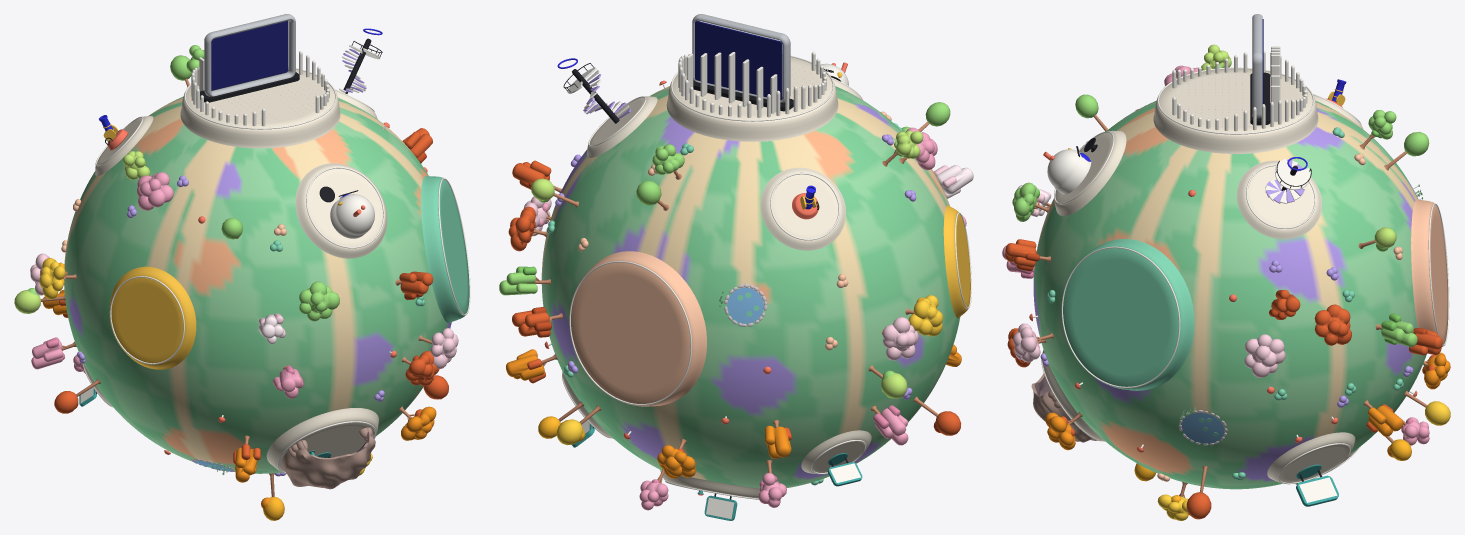
File: planet.glb
3 renders of one model, left to right at view 1: azimuth 30°, elevation 25°; view 2: azimuth 150°, elevation 25°; view 3: azimuth 270°, elevation 25°, orthographic. The views are drawn at different scales.
Parts seen in each view (by area): view 1: PLANET_ground, TERRACE_pin-art, TERRACE_gravity-pong, TERRACE_brand-studio, TERRACE_studio, PIN_backplate, TERRACE_orchestrator, CAVE_shell, PIN_frame, STUDIO_house, PIN_colonnade, TREE_17 (+20 smaller); view 2: PLANET_ground, TERRACE_engraver, TERRACE_pin-art, TERRACE_cannon, PIN_backplate, TERRACE_gravity-pong, PIN_colonnade, TERRACE_monument, TERRACE_genai-after-hours, PIN_frame, TREE_33, TREE_06 (+23 smaller); view 3: PLANET_ground, TERRACE_brand-studio, TERRACE_pin-art, TERRACE_engraver, TERRACE_monument, TERRACE_field, PIN_colonnade, TERRACE_studio, STUDIO_house, TREE_25, TREE_00, PIN_frame (+26 smaller).
Part boxes in pixels (<box>): PLANET_ground: <box>64,96,451,473</box>; TERRACE_pin-art: <box>180,68,340,148</box>; TERRACE_gravity-pong: <box>109,266,196,369</box>; TERRACE_brand-studio: <box>421,176,469,323</box>; TERRACE_studio: <box>295,163,387,258</box>; PIN_backplate: <box>211,21,288,90</box>; TERRACE_orchestrator: <box>266,408,378,472</box>; CAVE_shell: <box>282,427,375,489</box>; PIN_frame: <box>204,14,295,96</box>; STUDIO_house: <box>330,194,374,238</box>; PIN_colonnade: <box>191,51,329,126</box>; TREE_17: <box>299,281,339,321</box>; PLANET_ground: <box>541,86,960,488</box>; TERRACE_engraver: <box>571,251,706,406</box>; TERRACE_pin-art: <box>666,55,838,141</box>; TERRACE_cannon: <box>760,167,846,250</box>; PIN_backplate: <box>695,21,782,100</box>; TERRACE_gravity-pong: <box>943,205,970,317</box>; PIN_colonnade: <box>678,51,826,117</box>; TERRACE_monument: <box>587,96,657,157</box>; TERRACE_genai-after-hours: <box>801,430,871,473</box>; PIN_frame: <box>692,14,790,102</box>; TREE_33: <box>881,317,918,360</box>; TREE_06: <box>905,295,943,336</box>; PLANET_ground: <box>1033,100,1426,489</box>; TERRACE_brand-studio: <box>1063,239,1194,390</box>; TERRACE_pin-art: <box>1153,68,1318,153</box>; TERRACE_engraver: <box>1411,199,1448,346</box>; TERRACE_monument: <box>1237,160,1321,239</box>; TERRACE_field: <box>1267,432,1355,482</box>; PIN_colonnade: <box>1172,50,1307,131</box>; TERRACE_studio: <box>1054,130,1126,216</box>; STUDIO_house: <box>1043,148,1091,194</box>; TREE_25: <box>1244,334,1285,377</box>; TREE_00: <box>1314,304,1351,345</box>; PIN_frame: <box>1252,14,1262,118</box>.
Bounding box in the file's own units: 70.17 × 75.59 × 66.46.
